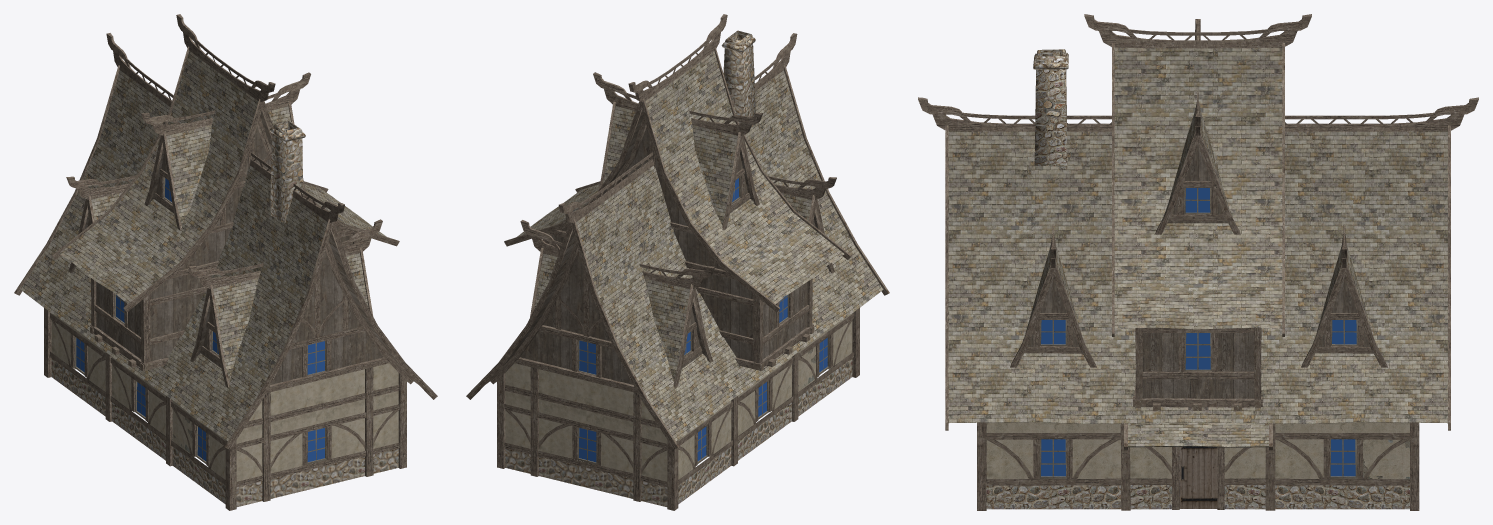
File: mw_type_2_cottage_08_LOD1.FBX
3 renders of one model, left to right at view 1: azimuth 30°, elevation 25°; view 2: azimuth 150°, elevation 25°; view 3: azimuth 270°, elevation 25°, orthographic. The views are drawn at different scales.
Visible parts, largest first — view 1: mw_type_2_cottage_building_08_roof, mw_type_2_cottage_building_08_wood, mw_type_2_cottage_building_08_wall, mw_type_2_cottage_building_08_stone_01, mw_type_2_cottage_building_08; view 2: mw_type_2_cottage_building_08_roof, mw_type_2_cottage_building_08_wood, mw_type_2_cottage_building_08_wall, mw_type_2_cottage_building_08_stone_01, mw_type_2_cottage_building_08; view 3: mw_type_2_cottage_building_08_roof, mw_type_2_cottage_building_08_wood, mw_type_2_cottage_building_08_stone_01, mw_type_2_cottage_building_08_wall, mw_type_2_cottage_building_08.
Boxes of the visible parts, x1,y1,x2,y2 form: mw_type_2_cottage_building_08_roof: [20, 51, 417, 441]; mw_type_2_cottage_building_08_wood: [14, 14, 437, 510]; mw_type_2_cottage_building_08_wall: [51, 314, 398, 481]; mw_type_2_cottage_building_08_stone_01: [51, 121, 398, 506]; mw_type_2_cottage_building_08: [74, 177, 326, 464]; mw_type_2_cottage_building_08_roof: [486, 51, 883, 441]; mw_type_2_cottage_building_08_wood: [466, 14, 889, 510]; mw_type_2_cottage_building_08_wall: [505, 314, 852, 481]; mw_type_2_cottage_building_08_stone_01: [505, 30, 852, 506]; mw_type_2_cottage_building_08: [577, 177, 829, 464]; mw_type_2_cottage_building_08_roof: [948, 47, 1447, 447]; mw_type_2_cottage_building_08_wood: [918, 14, 1478, 510]; mw_type_2_cottage_building_08_stone_01: [986, 49, 1409, 509]; mw_type_2_cottage_building_08_wall: [986, 422, 1409, 479]; mw_type_2_cottage_building_08: [1039, 187, 1357, 508].
Bounding box in the file's own units: 1330 × 1716 × 1963.
